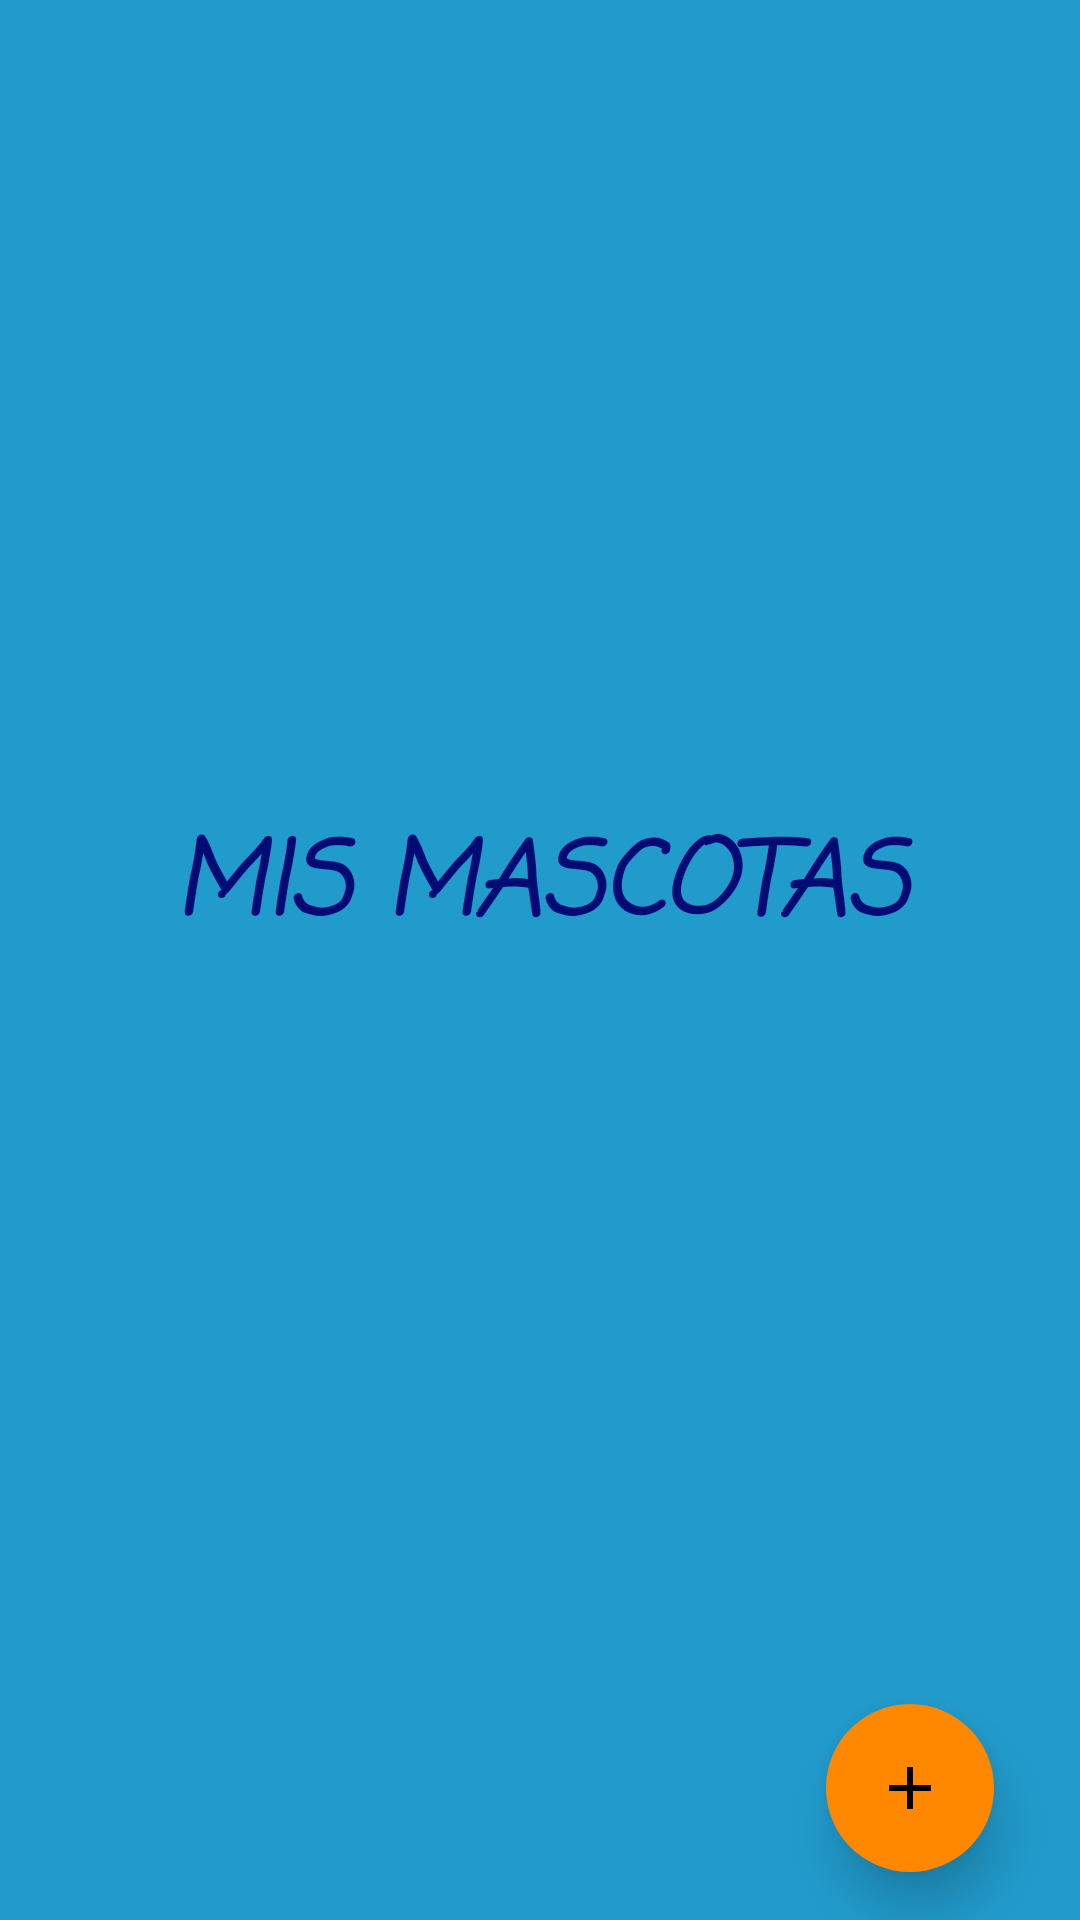

Screen size 1080×1920. Icon name, then its center in pixels as point (x, y):
agregar: point (910, 1788)
